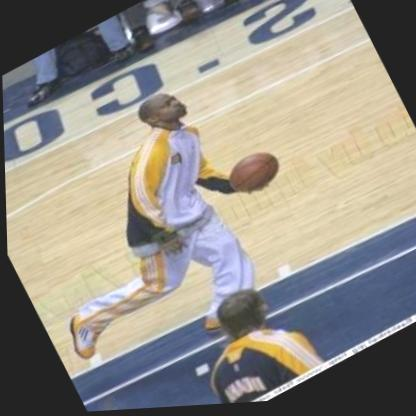basketball: (216, 141, 291, 209)
